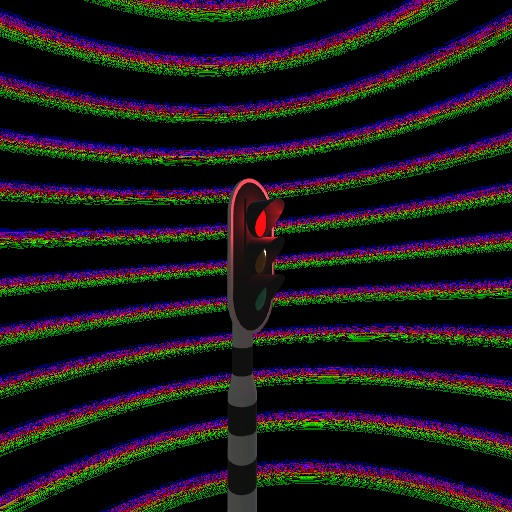Red_Light: (227, 179, 285, 333)
